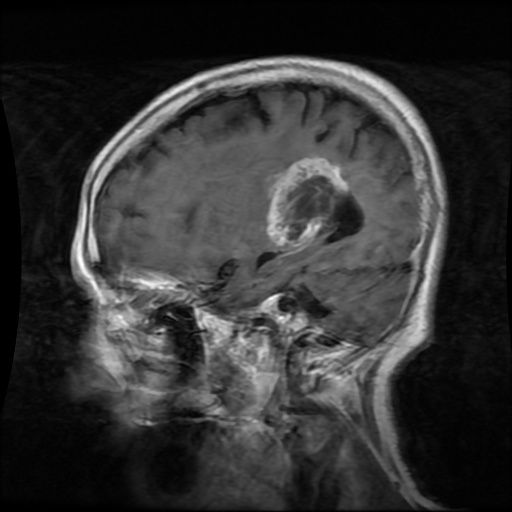glioma: (265, 158, 349, 247)
